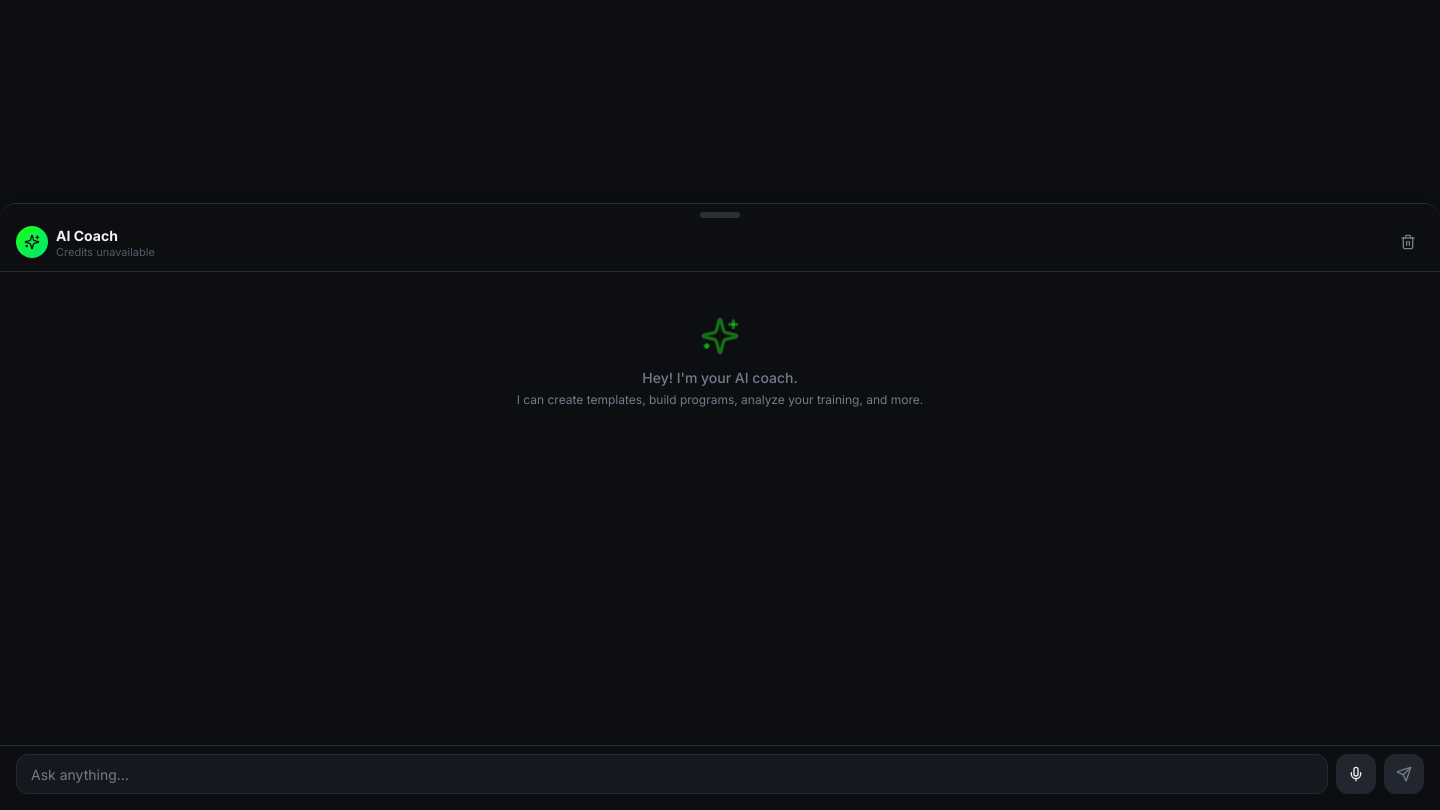
Scenario: AI coach voice input › keeps what was already said when the microphone drops out
The image size is (1440, 810).
Click the button named "Start voice input".
click(1356, 774)  # box [1336, 754, 1376, 794]
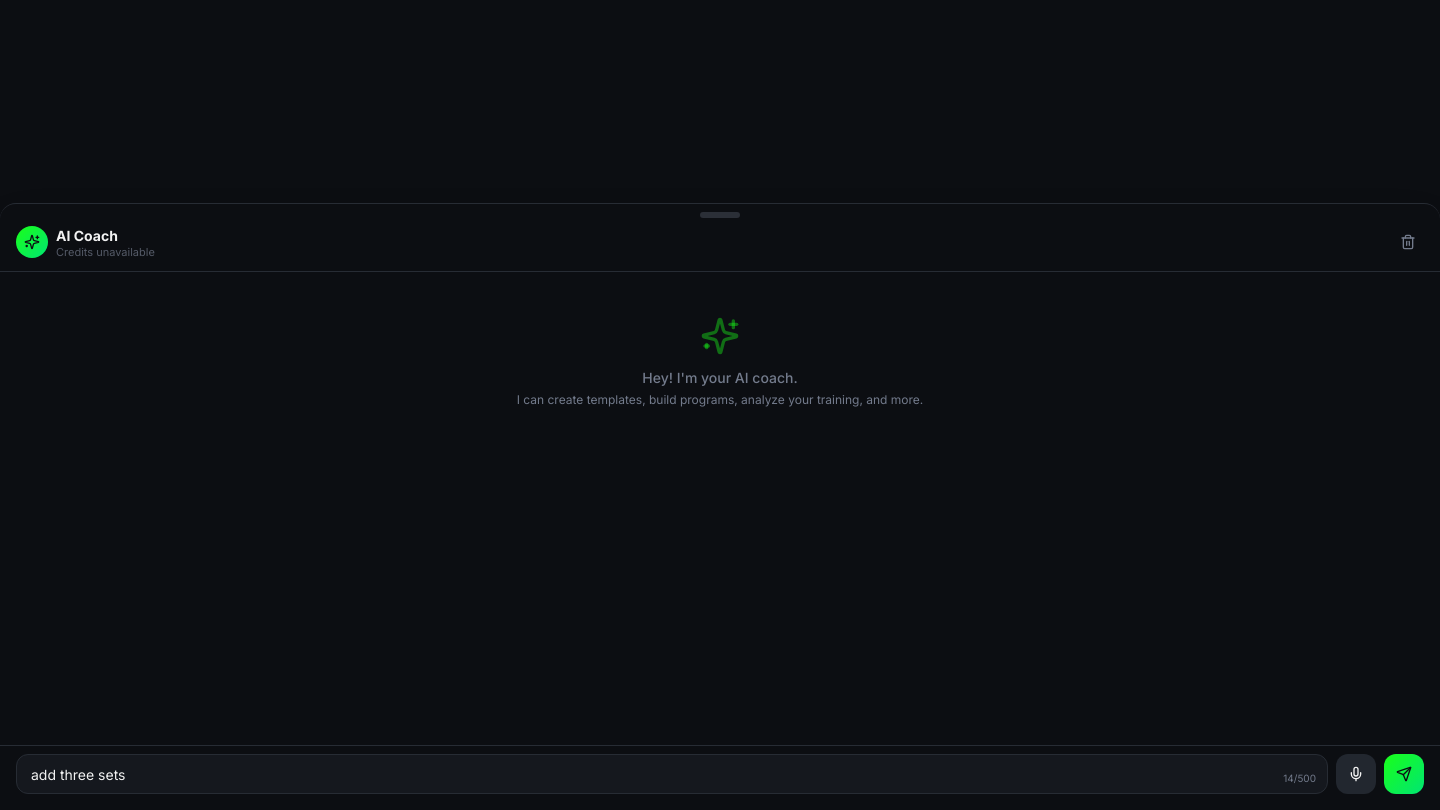
Check: the text box holds "add three sets", box [16, 754, 1328, 794]
